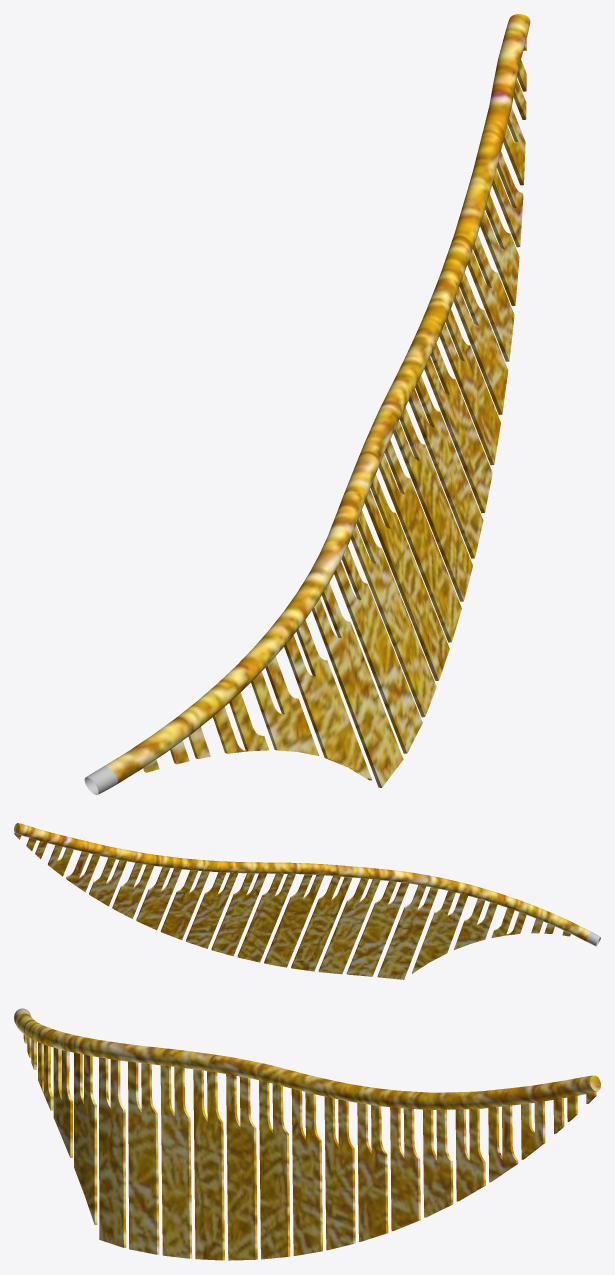
File: snitchAlaD.obj
3 renders of one model, top to bottom at view 1: azimuth 30°, elevation 25°; view 2: azimuth 150°, elevation 25°; view 3: azimuth 270°, elevation 25°, orthographic. The views are drawn at different scales.
Parts seen in each view (by area): view 1: polySurface155; view 2: polySurface155; view 3: polySurface155.
Boxes of the visible parts, x1,y1,x2,y2 form: polySurface155: (84,14,530,794); polySurface155: (14,823,600,979); polySurface155: (14,1008,600,1260).
Size of the model in its own units: 4.79 by 2.45 by 3.87.
